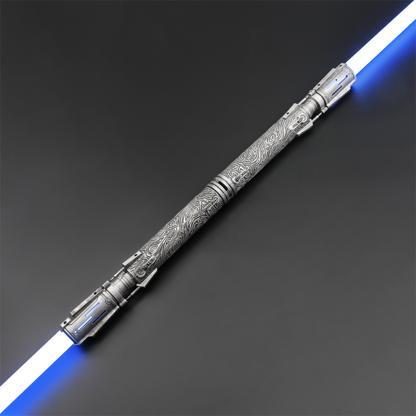lightsaber: (0, 2, 415, 415)
